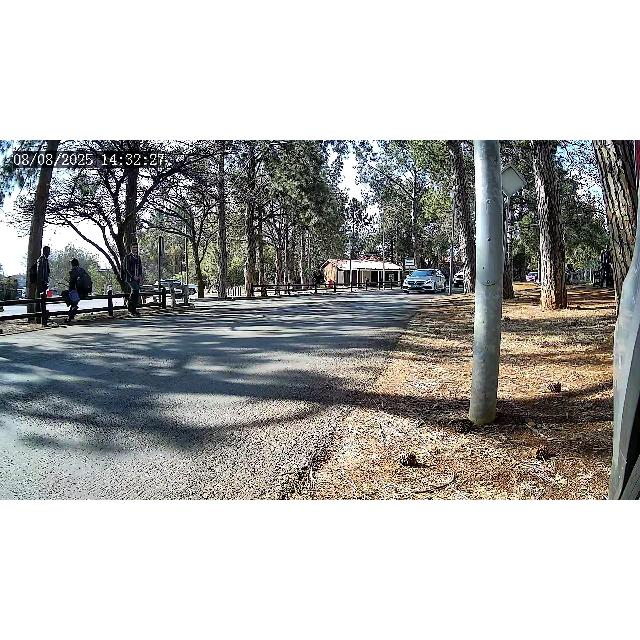car: (404, 270, 446, 294)
